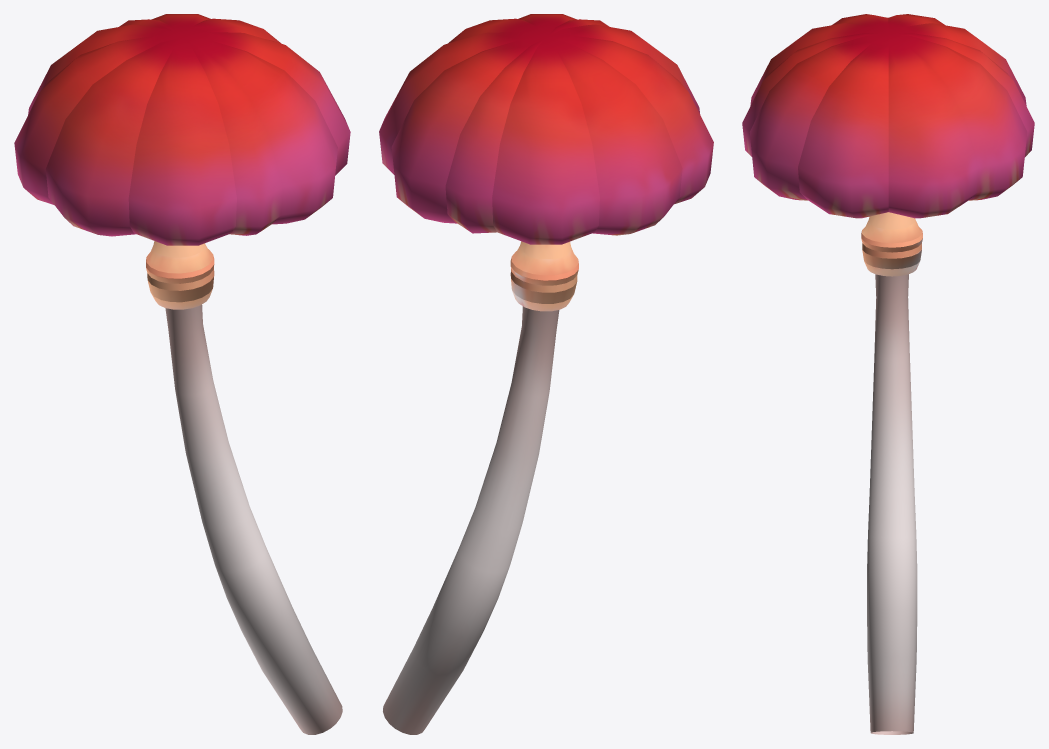
File: Long_mushroom_6.fbx
The picture shows the model from 3 angles, left to right: view 1: azimuth 30°, elevation 25°; view 2: azimuth 150°, elevation 25°; view 3: azimuth 270°, elevation 25°; orthographic projection. The views are drawn at different scales.
Parts seen in each view (by area): view 1: Object011, Object016; view 2: Object011, Object016; view 3: Object011, Object016.
Boxes of the visible parts, x1,y1,x2,y2 form: Object011: (14, 14, 350, 245); Object016: (146, 241, 342, 734); Object011: (379, 14, 713, 244); Object016: (383, 241, 578, 734); Object011: (742, 14, 1034, 218); Object016: (861, 212, 922, 734).
Bounding box in the file's own units: 1.48 × 3.41 × 1.4.
